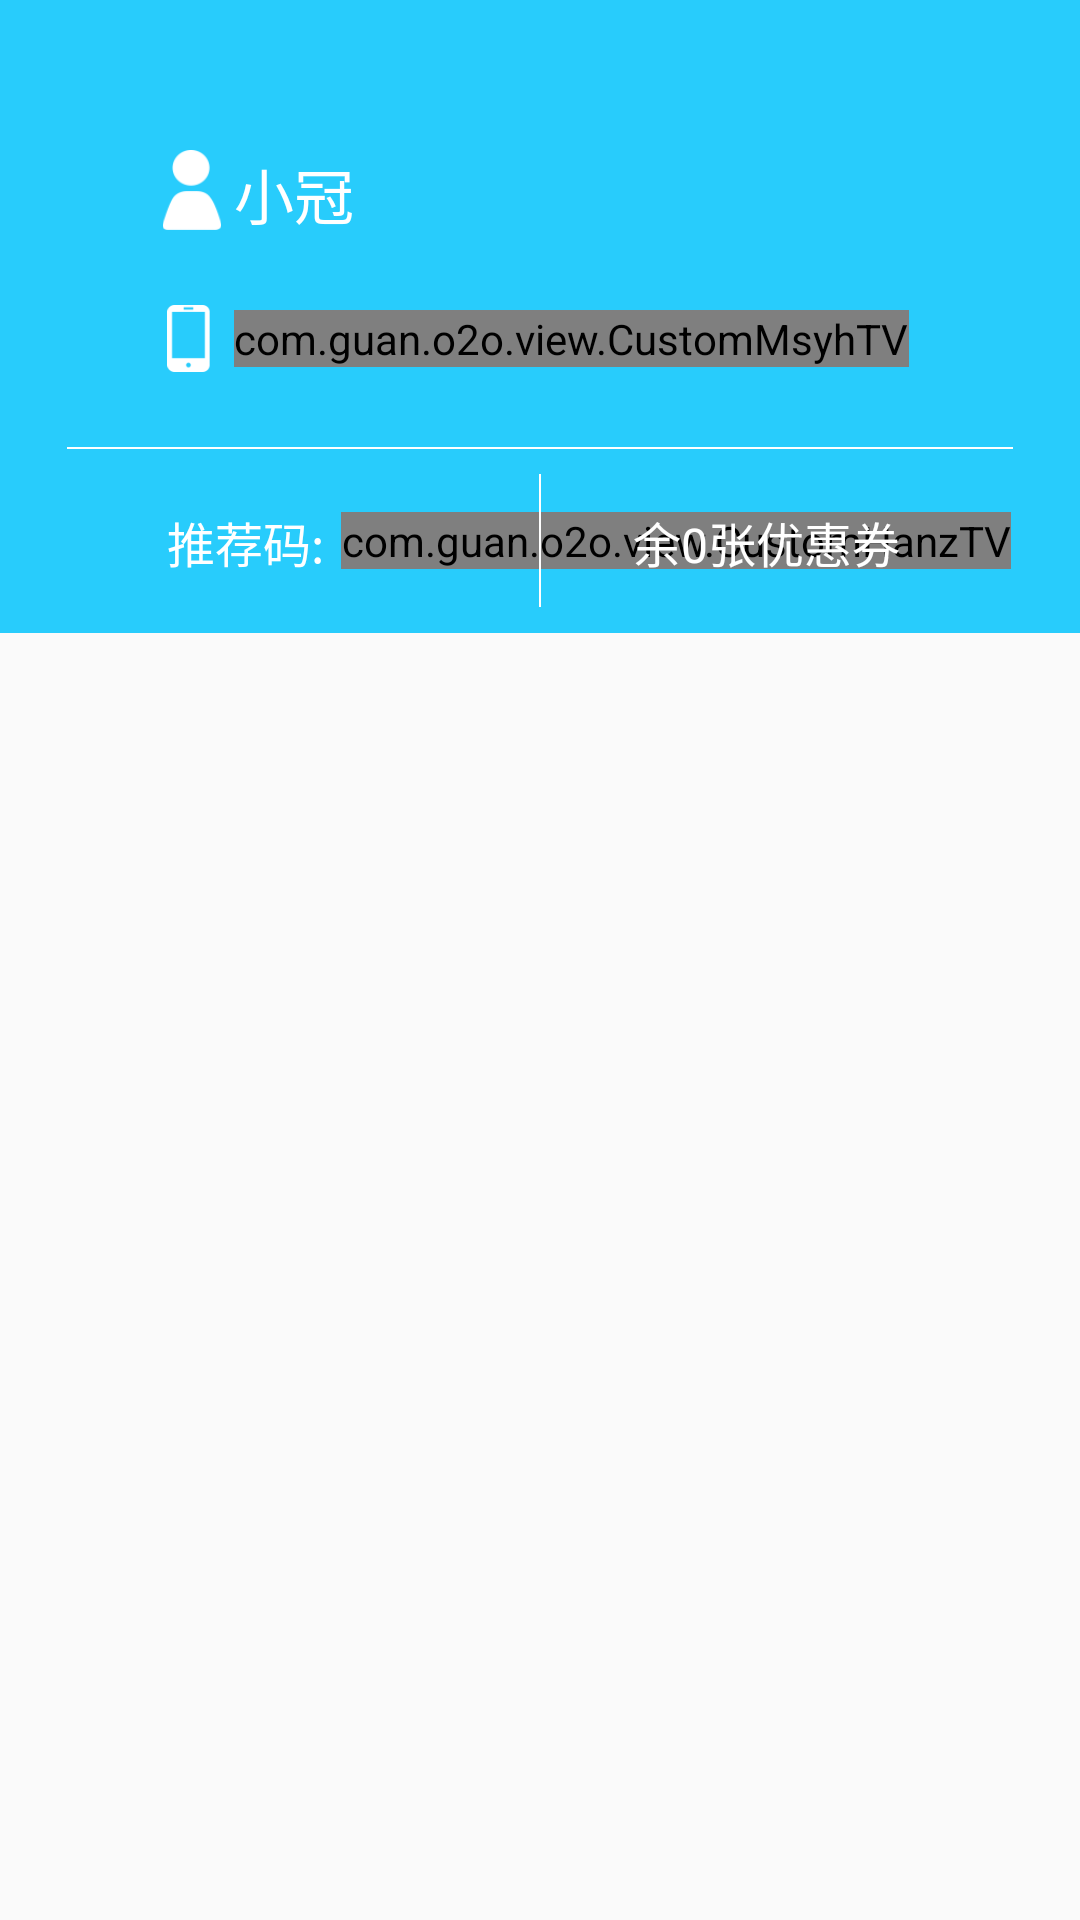

Icons on this 1080w x 1920h Android screen, each with the point to tap as (x,y):
person: (192,190)
phone: (188,338)
